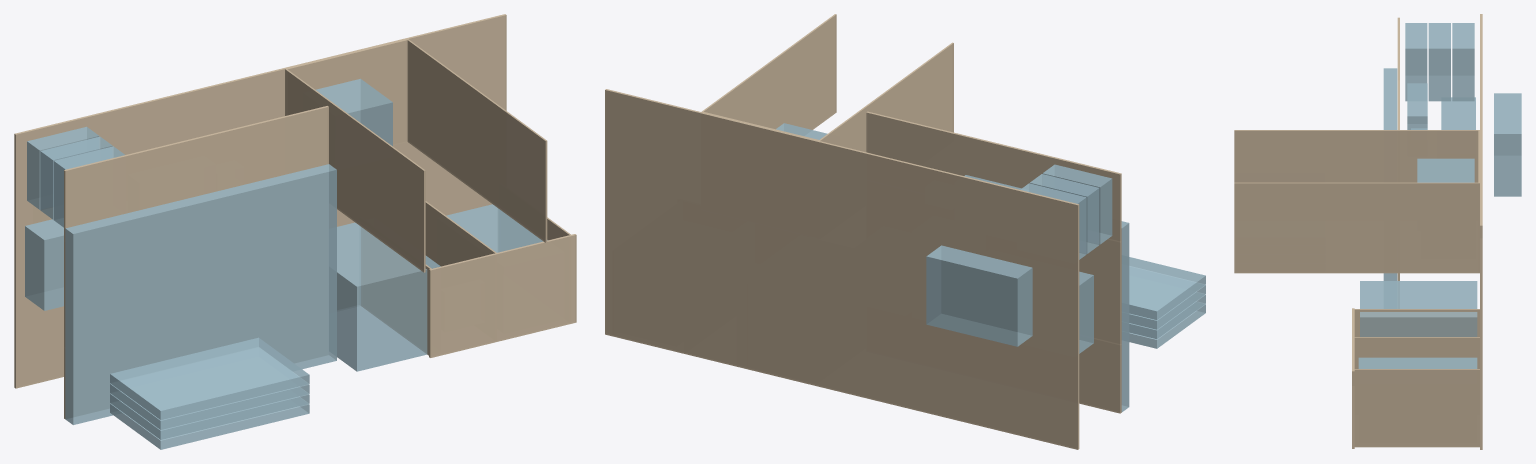
Rendered from B_conversivel_noite.glb.
3 views of the same model, side by side, from view 1: azimuth 30°, elevation 25°; view 2: azimuth 150°, elevation 25°; view 3: azimuth 270°, elevation 25° (orthographic). The views are drawn at different scales.
Parts seen in each view (by area): view 1: equipamento__17_cama_conversivel_colchao, madeira__18_piso, madeira__27_assento_1.274, madeira__21_parede_banho2, madeira__19_tampo, equipamento__15_lava_seca, madeira__20_parede_banho, equipamento__11_portatil_bolsa_4, madeira__23_divisoria_2.54, madeira__22_base_banho, equipamento__6_tanque_limpa, equipamento__1_cassete (+8 smaller); view 2: madeira__18_piso, equipamento__7_tanque_cinza, madeira__27_assento_1.274, madeira__21_parede_banho2, madeira__20_parede_banho, equipamento__11_portatil_bolsa_4, madeira__28_ponte_cama, madeira__26_assento_0.02, equipamento__17_cama_conversivel_colchao, equipamento__14_US5000_3, equipamento__13_US5000_2, equipamento__6_tanque_limpa (+4 smaller); view 3: madeira__21_parede_banho2, madeira__20_parede_banho, madeira__25_divisoria_3.57, equipamento__15_lava_seca, madeira__23_divisoria_2.54, equipamento__7_tanque_cinza, madeira__24_divisoria_3.02, equipamento__12_US5000_1, equipamento__13_US5000_2, equipamento__14_US5000_3, equipamento__1_cassete, equipamento__0_geladeira_AC (+6 smaller).
Part boxes in pixels (<box>): equipamento__17_cama_conversivel_colchao: <box>65,164,336,424</box>; madeira__18_piso: <box>14,14,506,388</box>; madeira__27_assento_1.274: <box>64,106,328,241</box>; madeira__21_parede_banho2: <box>407,39,547,242</box>; madeira__19_tampo: <box>429,234,576,357</box>; equipamento__15_lava_seca: <box>337,222,440,371</box>; madeira__20_parede_banho: <box>285,69,425,272</box>; equipamento__11_portatil_bolsa_4: <box>110,337,309,419</box>; madeira__23_divisoria_2.54: <box>361,227,431,355</box>; madeira__22_base_banho: <box>286,39,407,145</box>; equipamento__6_tanque_limpa: <box>25,219,63,310</box>; equipamento__1_cassete: <box>315,78,392,146</box>; madeira__18_piso: <box>605,89,1079,449</box>; equipamento__7_tanque_cinza: <box>926,245,1032,346</box>; madeira__27_assento_1.274: <box>866,111,1121,242</box>; madeira__21_parede_banho2: <box>701,14,836,129</box>; madeira__20_parede_banho: <box>819,42,953,151</box>; equipamento__11_portatil_bolsa_4: <box>1129,257,1205,319</box>; madeira__28_ponte_cama: <box>1079,239,1121,345</box>; madeira__26_assento_0.02: <box>1079,339,1121,413</box>; equipamento__17_cama_conversivel_colchao: <box>1121,221,1129,412</box>; equipamento__14_US5000_3: <box>1042,164,1112,244</box>; equipamento__13_US5000_2: <box>1030,174,1099,253</box>; equipamento__6_tanque_limpa: <box>1079,271,1093,353</box>; madeira__21_parede_banho2: <box>1234,182,1479,273</box>; madeira__20_parede_banho: <box>1234,130,1479,182</box>; madeira__25_divisoria_3.57: <box>1354,369,1479,447</box>; equipamento__15_lava_seca: <box>1360,281,1477,336</box>; madeira__23_divisoria_2.54: <box>1354,309,1479,336</box>; equipamento__7_tanque_cinza: <box>1494,93,1521,196</box>; madeira__24_divisoria_3.02: <box>1354,337,1479,368</box>; equipamento__12_US5000_1: <box>1452,23,1474,101</box>; equipamento__13_US5000_2: <box>1428,23,1450,101</box>; equipamento__14_US5000_3: <box>1405,23,1427,101</box>; equipamento__1_cassete: <box>1417,158,1474,182</box>; equipamento__0_geladeira_AC: <box>1358,357,1477,368</box>.
Size of the model in its own units: 3.63 by 1.79 by 2.08.
